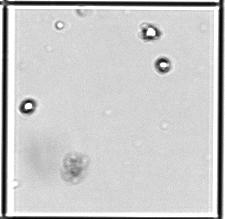Living Cell: (19, 98, 37, 115), (142, 23, 160, 40), (156, 56, 173, 74)
